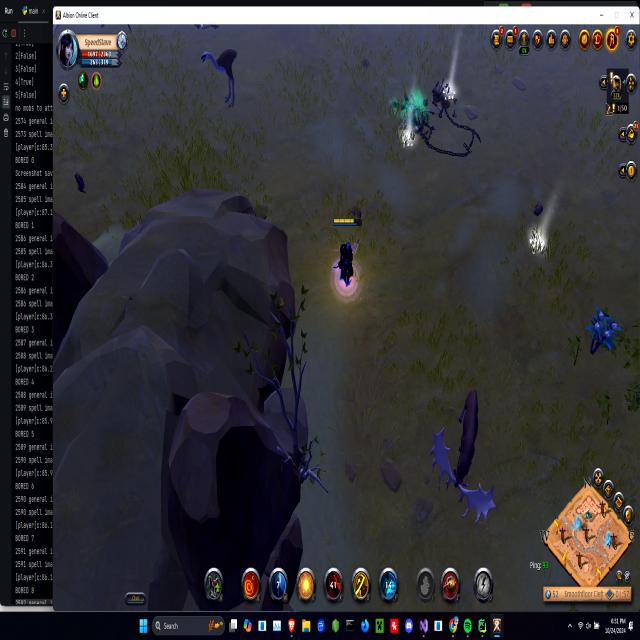hide: (586, 302, 622, 362)
ore: (428, 383, 497, 530), (198, 42, 245, 116)
red: (328, 211, 366, 302)
